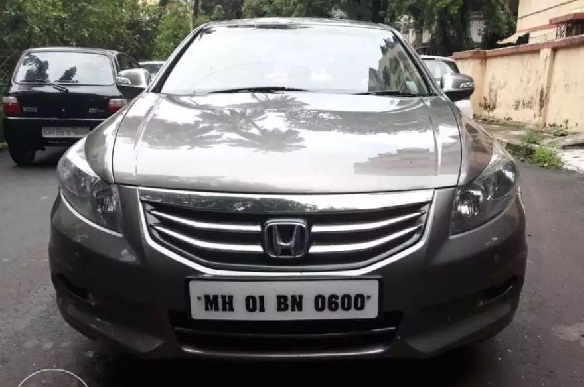licenseplate: (189, 279, 381, 321)
